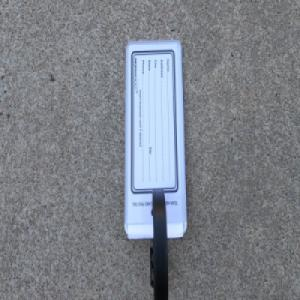LuggageTag: (122, 36, 188, 300)
